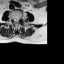CCS_normal: (15, 17, 17, 25)
LFS_stenosis: (18, 16, 21, 21)
LLS_normal: (17, 17, 18, 23)
RFS_stenosis: (12, 15, 13, 21)
RLS_normal: (13, 17, 15, 23)
